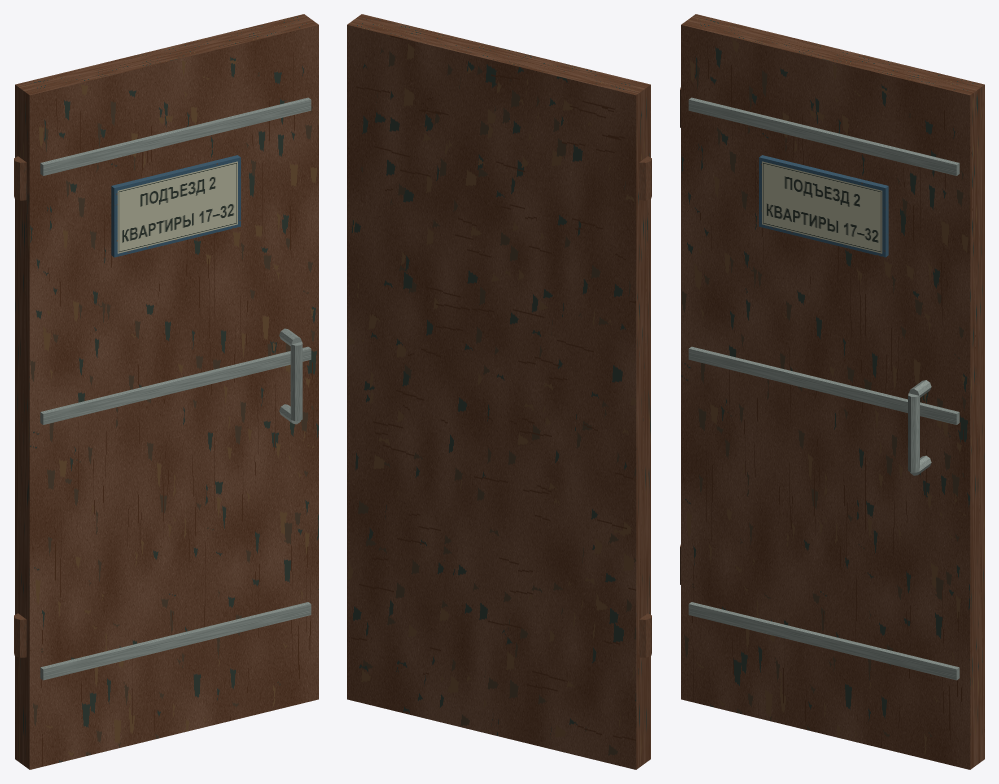
The model's file is CIS_EntranceDoor.glb.
The picture shows the model from 3 angles, left to right: view 1: azimuth 30°, elevation 25°; view 2: azimuth 150°, elevation 25°; view 3: azimuth 330°, elevation 25°; orthographic projection.
Visible parts, largest first — view 1: CIS_EntranceDoor; view 2: CIS_EntranceDoor; view 3: CIS_EntranceDoor.
Boxes of the visible parts, x1,y1,x2,y2 form: CIS_EntranceDoor: (14,14,318,769); CIS_EntranceDoor: (347,14,651,769); CIS_EntranceDoor: (680,14,984,769).
Bounding box in the file's own units: 0.985 × 2.14 × 0.2005.
4 materials, 4 textured.
